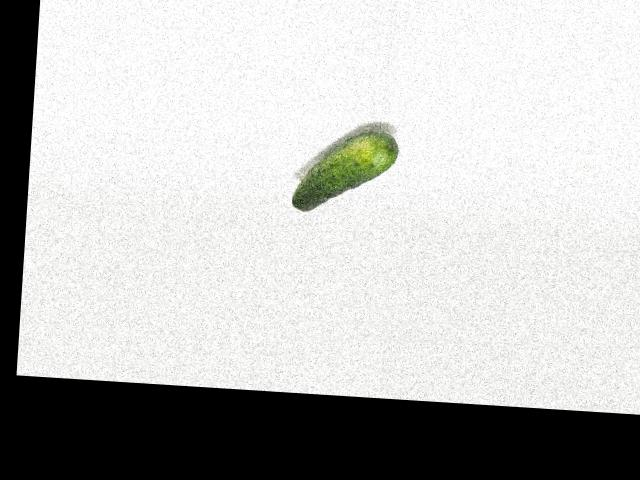cucumber: (290, 127, 398, 216)
